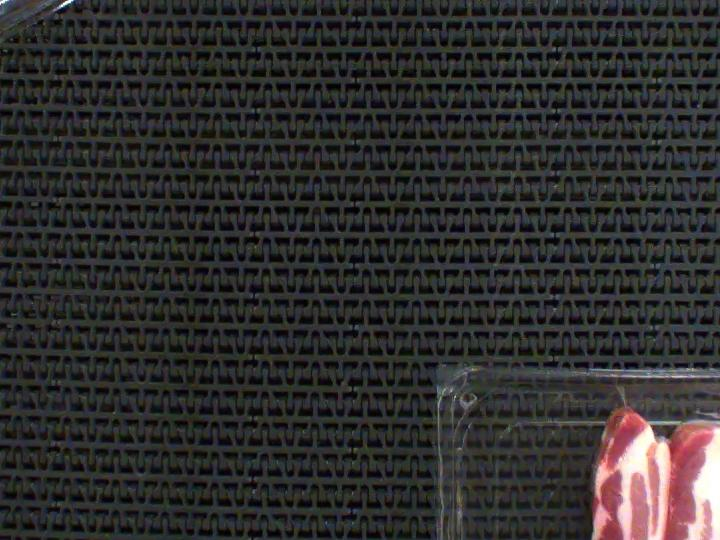packaging-error: (685, 403, 720, 430), (613, 383, 634, 410)
